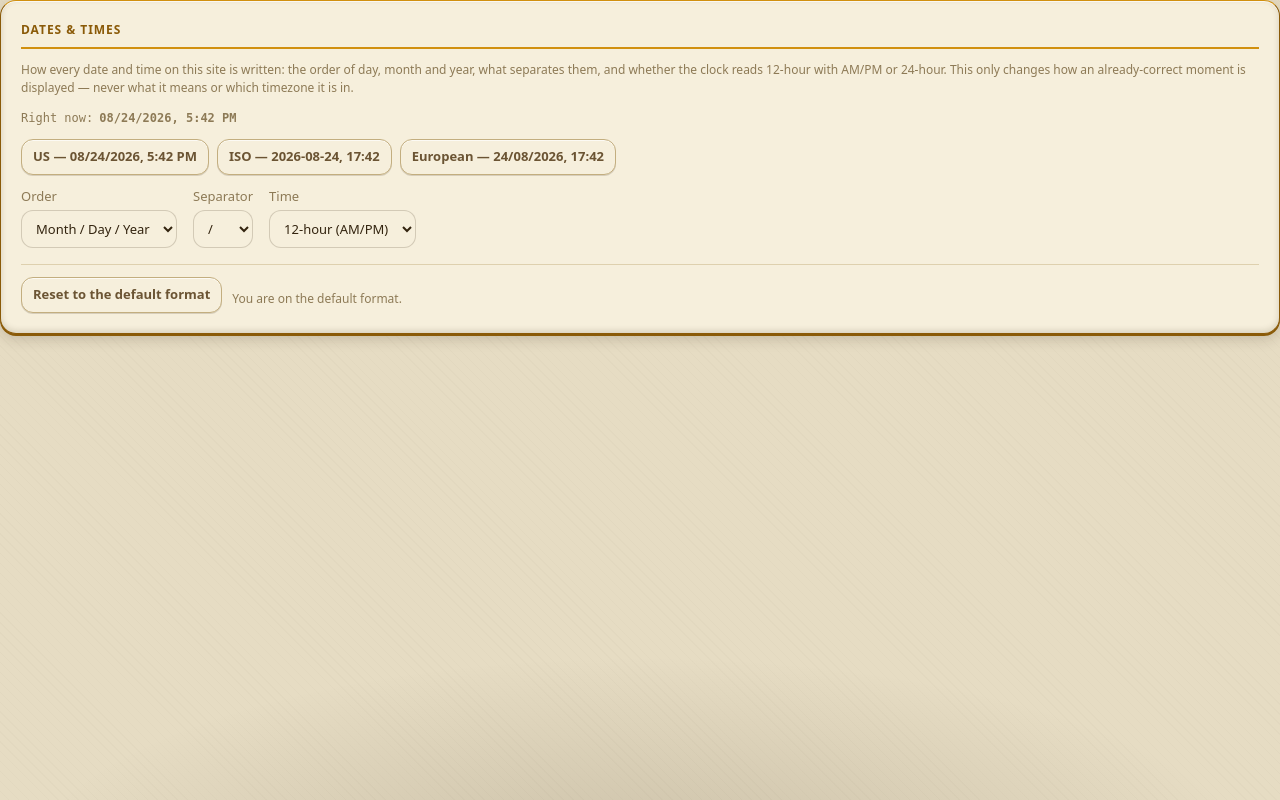
Scenario: reset › puts every field, and storage, back to the default
The width and height of the screenshot is (1280, 800).
Click the button "ISO — 2026-08-24, 17:42" at (304, 157), box [217,139,392,174]
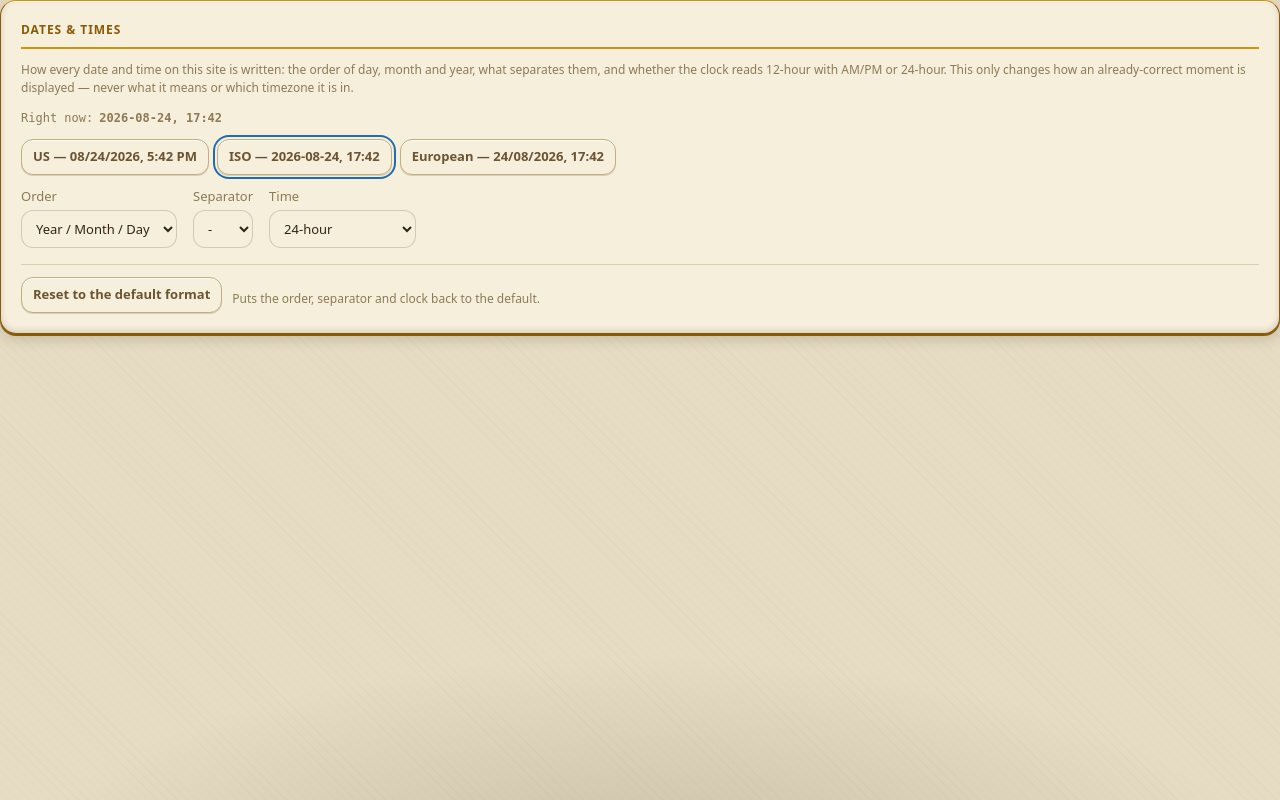
Click the button "Reset to the default format" at (122, 295), box [21,277,222,312]
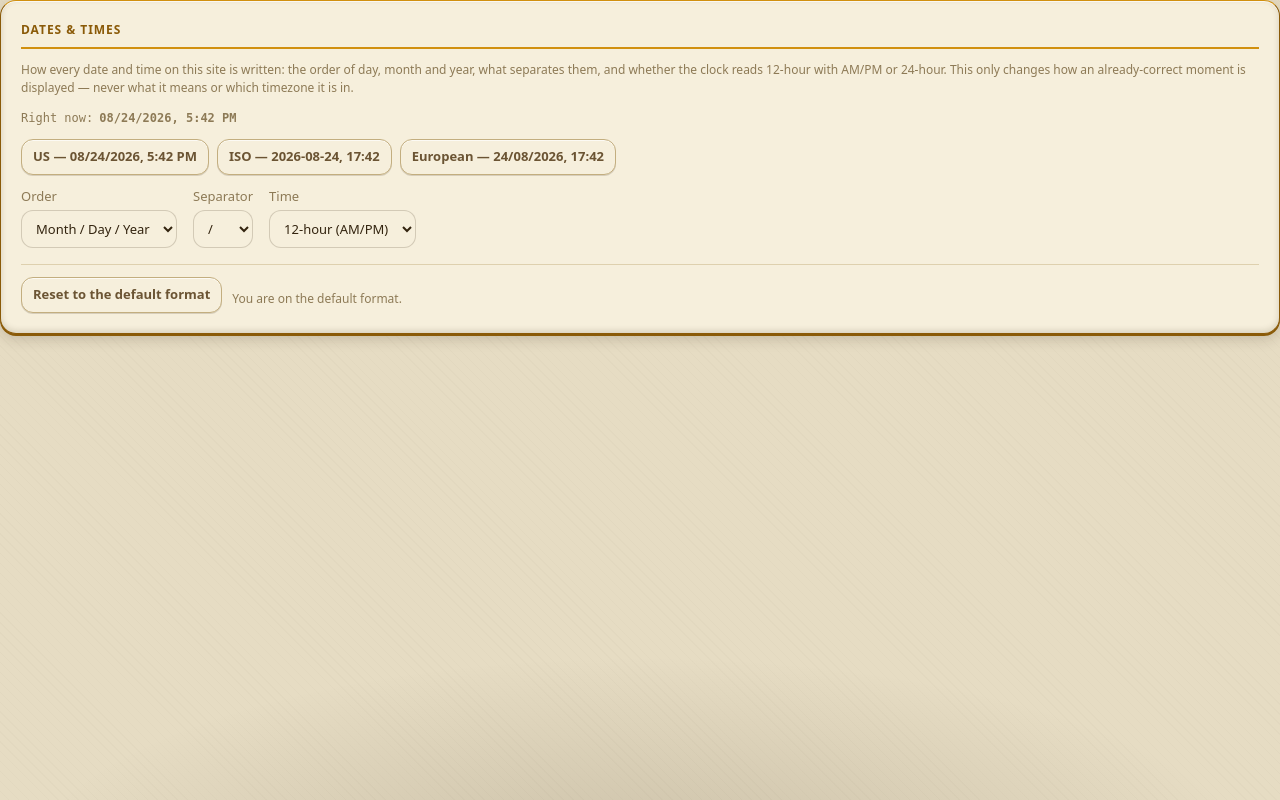
Check: the text "You are on the default format." is shown, box [232,290,402,308]
